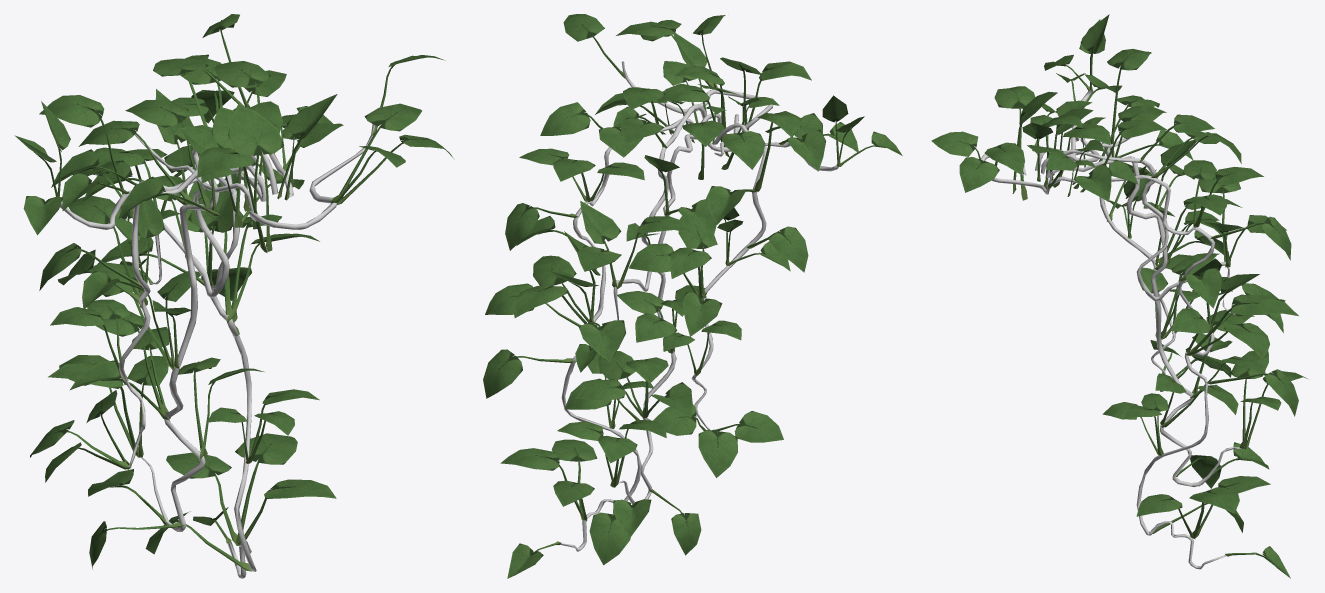
File: SM_heartLeaf.FBX
3 views of the same model, side by side, from view 1: azimuth 30°, elevation 25°; view 2: azimuth 150°, elevation 25°; view 3: azimuth 270°, elevation 25° (orthographic). The views are drawn at different scales.
Parts seen in each view (by area): view 1: SM_heartLeaf; view 2: SM_heartLeaf; view 3: SM_heartLeaf.
Boxes of the visible parts, left/top/right/bottom form: SM_heartLeaf: left=14, top=14, right=454, bottom=578; SM_heartLeaf: left=483, top=14, right=902, bottom=578; SM_heartLeaf: left=931, top=14, right=1307, bottom=578.
Size of the model in its own units: 60.64 by 61.61 by 81.78.
